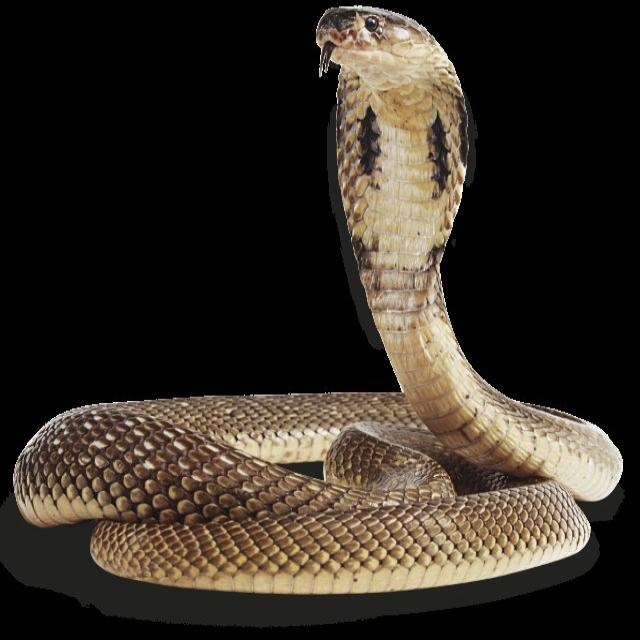snake: (14, 6, 623, 594)
